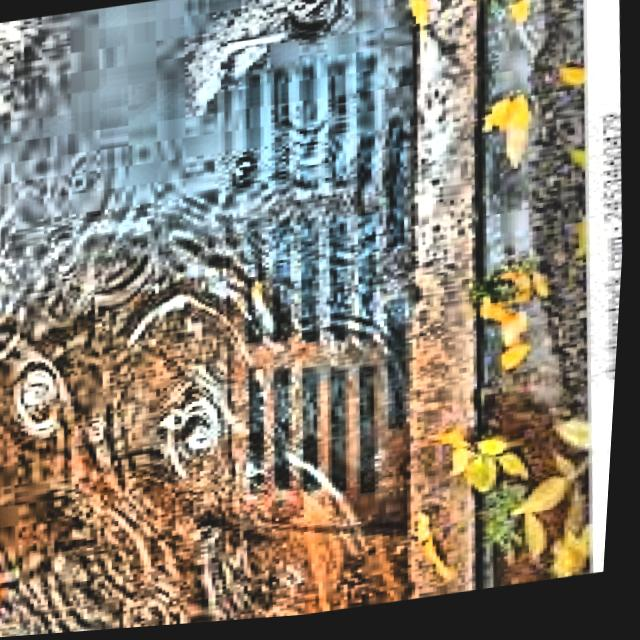clogged_drains: (218, 41, 412, 527)
